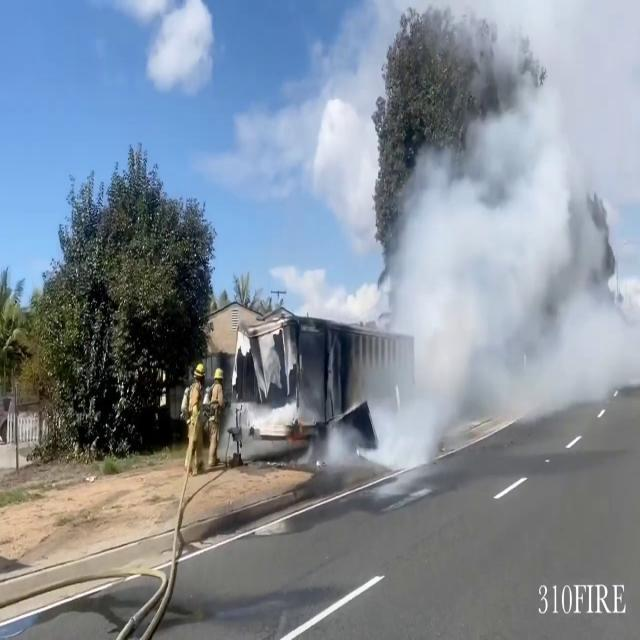Smoke: (371, 33, 640, 447)
